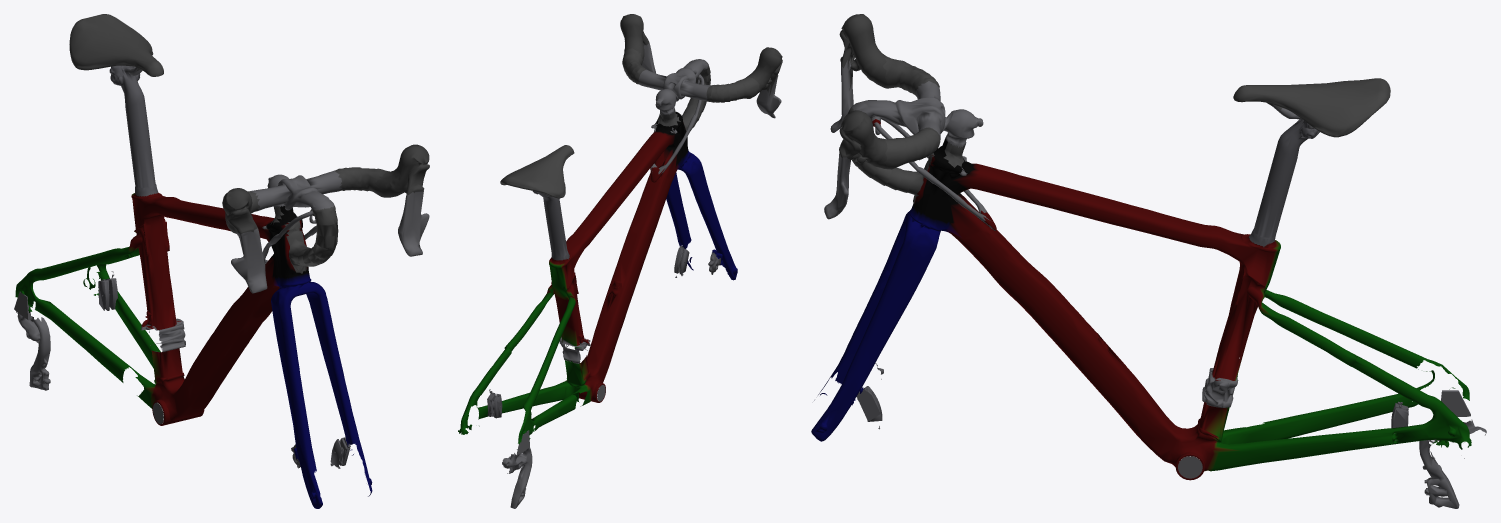
Rendered from roubaix44_lod1.glb.
3 views of the same model, side by side, from view 1: azimuth 30°, elevation 25°; view 2: azimuth 150°, elevation 25°; view 3: azimuth 270°, elevation 25° (orthographic). The views are drawn at different scales.
Parts seen in each view (by area): view 1: frame, cockpit, fork, saddle, seatpost, etrier_arriere; view 2: frame, cockpit, fork, saddle, seatpost; view 3: frame, cockpit, fork, saddle, seatpost.
Part boxes in pixels (x1=…): frame: x1=14, y1=192, x2=338, y2=425; cockpit: x1=222, y1=144, x2=429, y2=293; fork: x1=251, y1=272, x2=372, y2=508; saddle: x1=69, y1=14, x2=163, y2=147; seatpost: x1=130, y1=143, x2=157, y2=196; etrier_arriere: x1=98, y1=271, x2=117, y2=310; frame: x1=458, y1=64, x2=710, y2=508; cockpit: x1=620, y1=14, x2=782, y2=118; fork: x1=643, y1=149, x2=737, y2=280; saddle: x1=500, y1=145, x2=574, y2=228; seatpost: x1=547, y1=225, x2=569, y2=260; frame: x1=847, y1=106, x2=1486, y2=508; cockpit: x1=824, y1=14, x2=983, y2=219; fork: x1=811, y1=204, x2=1007, y2=441; saddle: x1=1233, y1=78, x2=1390, y2=193; seatpost: x1=1249, y1=189, x2=1288, y2=247.
Size of the model in its own units: 0.4147 by 0.7933 by 1.06.
